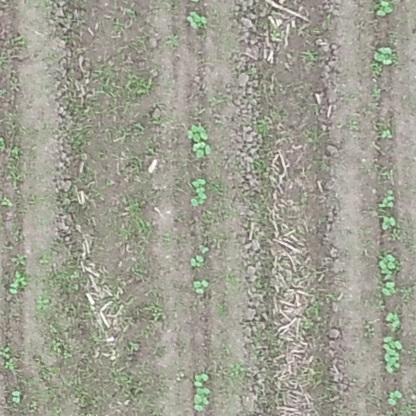vc: (384, 336, 409, 377), (185, 7, 207, 31), (379, 255, 401, 278), (373, 45, 394, 67), (190, 178, 205, 206), (195, 389, 213, 410), (385, 387, 403, 408), (379, 188, 396, 207), (193, 143, 213, 159), (193, 275, 208, 295), (186, 125, 207, 139), (190, 371, 209, 386), (386, 314, 402, 330), (190, 253, 206, 268), (11, 388, 24, 406), (377, 1, 391, 16), (381, 216, 397, 229), (381, 282, 397, 295), (8, 281, 19, 296), (383, 130, 394, 138)
